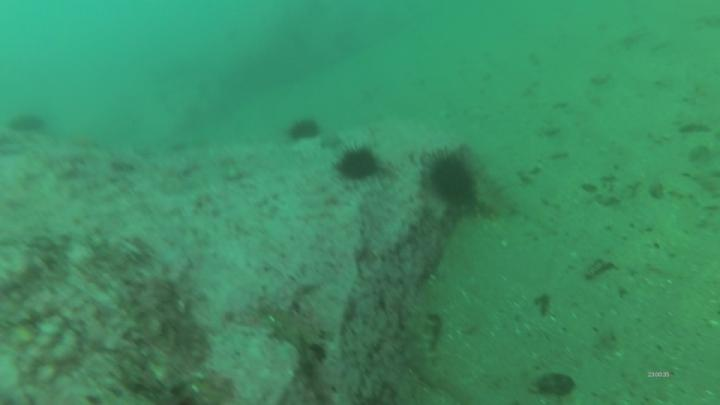echinus: (432, 162, 474, 203), (340, 149, 376, 178), (292, 120, 320, 142)
holothurian: (406, 307, 438, 384)
